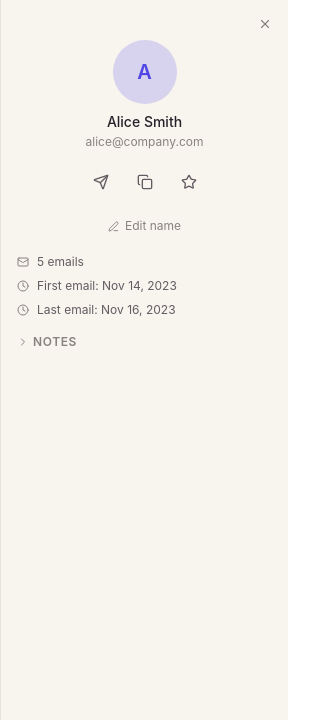
Test case: ContactSidebar › renders Notes section toggle when contact exists
The width and height of the screenshot is (320, 720).
Note: Click to expand
Step 1. Click the button "Notes" → (47,342), box [17,334,77,350]
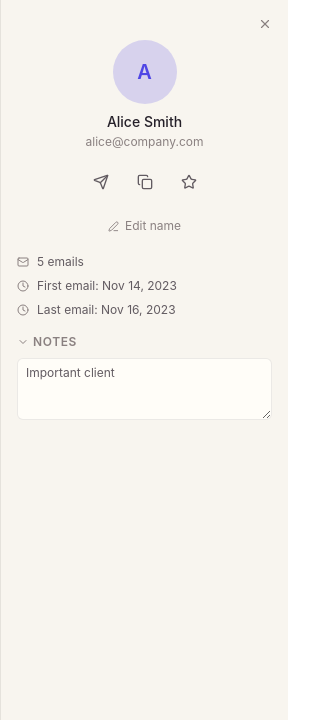
Expected: the text box with placeholder "Add a note..." is shown, [17,358,272,420]
